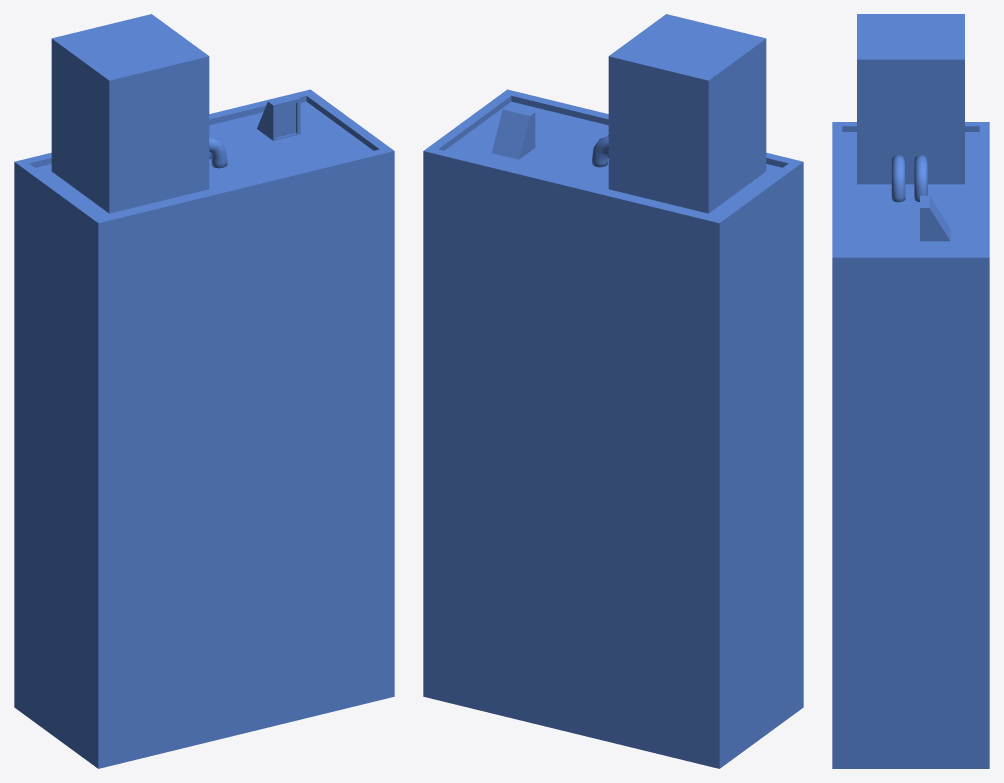
Rendered from Building9_blue.fbx.
3 views of the same model, side by side, from view 1: azimuth 30°, elevation 25°; view 2: azimuth 150°, elevation 25°; view 3: azimuth 270°, elevation 25° (orthographic). The views are drawn at different scales.
Visible parts, largest first — view 1: Building 9; view 2: Building 9; view 3: Building 9.
Boxes of the visible parts, <box> form: Building 9: <box>14,14,394,768</box>; Building 9: <box>423,14,803,768</box>; Building 9: <box>832,14,989,768</box>.
Size of the model in its own units: 2416 by 5243 by 1188.
1 material, 1 textured.
